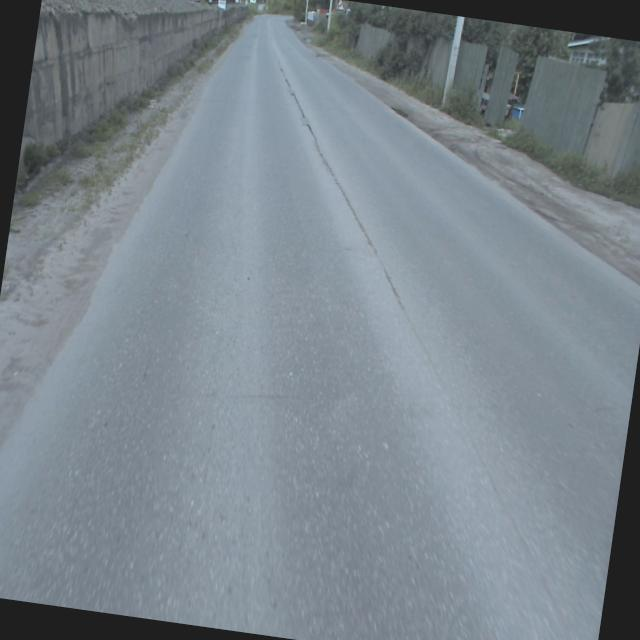road: (0, 15, 640, 640)
